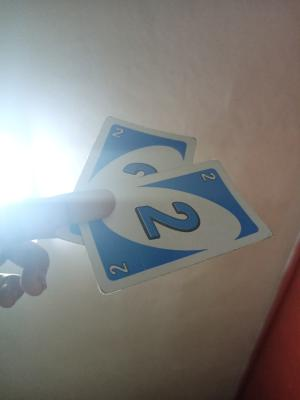blue: (118, 192, 243, 242)
num_2: (101, 256, 132, 277), (196, 168, 218, 185), (106, 123, 126, 141)
